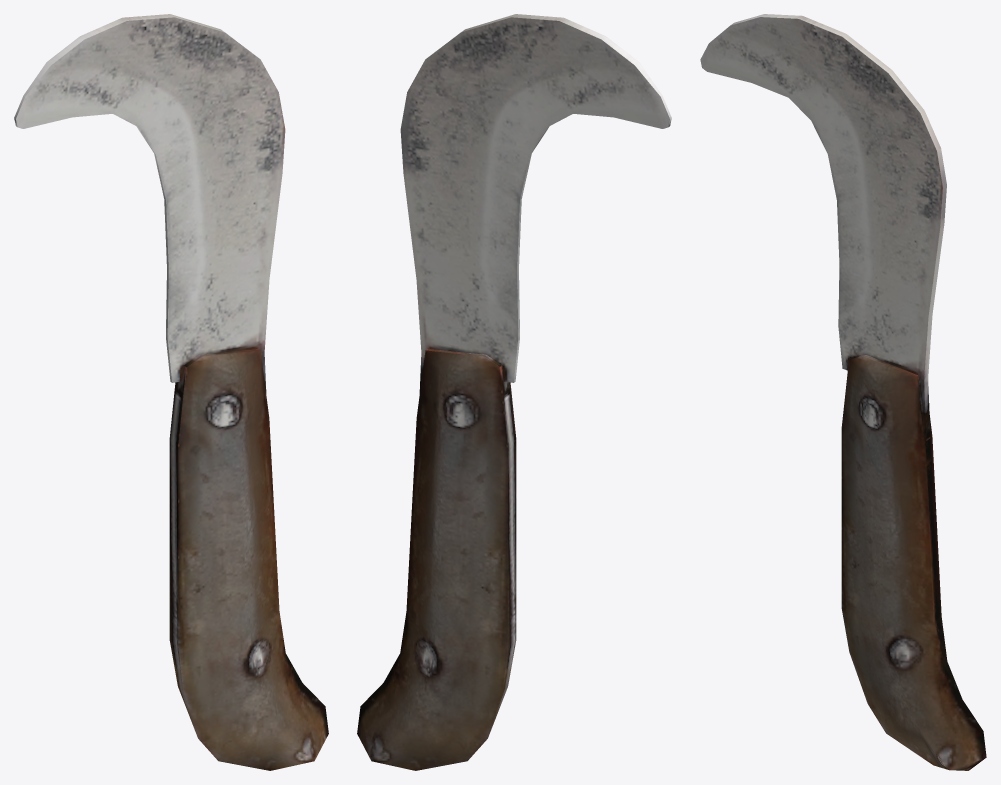
The model's file is SM_PRP_Knife_Misc_01_A.glb.
The picture shows the model from 3 angles, left to right: view 1: azimuth 30°, elevation 25°; view 2: azimuth 150°, elevation 25°; view 3: azimuth 330°, elevation 25°; orthographic projection. The views are drawn at different scales.
Visible parts, largest first — view 1: SM_PRP_Knife_Misc_01_A; view 2: SM_PRP_Knife_Misc_01_A; view 3: SM_PRP_Knife_Misc_01_A.
Boxes of the visible parts, box(x1,y1,x2,y2) form: SM_PRP_Knife_Misc_01_A: box(14, 14, 328, 770); SM_PRP_Knife_Misc_01_A: box(357, 14, 671, 770); SM_PRP_Knife_Misc_01_A: box(700, 14, 986, 770).
Bounding box in the file's own units: 0.056 × 0.1341 × 0.0083.
1 material, 1 textured.
